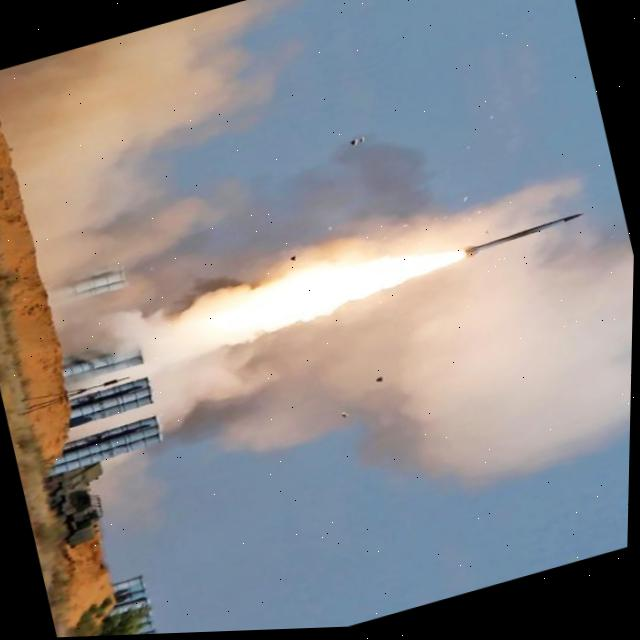missile: (458, 213, 584, 268)
